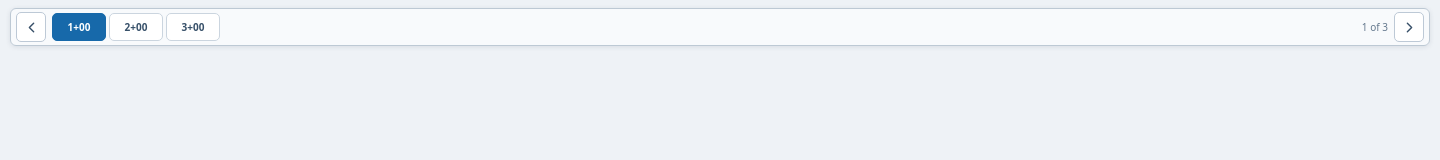
Test: HydraulicProfileStationNavigator › moves among every generated station without regenerating
The image size is (1440, 160).
Check: the text "1 of 3" is shown, box x1=1362 y1=20 x2=1388 y2=34
Check: the button named "Previous station" is disabled, box x1=16 y1=12 x2=46 y2=42
Click the button named "Next station": [1409, 27] box x1=1394 y1=12 x2=1424 y2=42
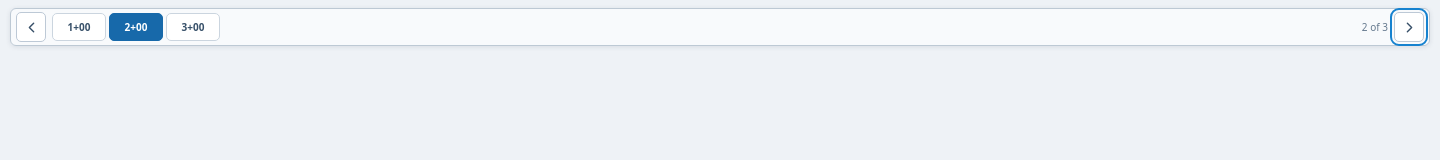
Check: the text "2 of 3" is shown, box x1=1362 y1=20 x2=1388 y2=34
Click the tab "3+00": [193, 27] box x1=166 y1=13 x2=220 y2=41
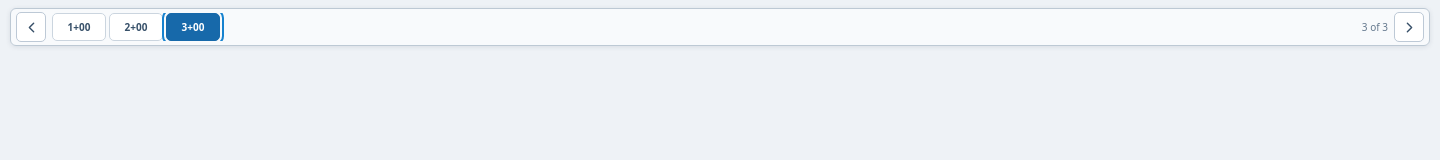
Check: the button named "Next station" is disabled, box x1=1394 y1=12 x2=1424 y2=42
Check: the text "3 of 3" is shown, box x1=1362 y1=20 x2=1388 y2=34
